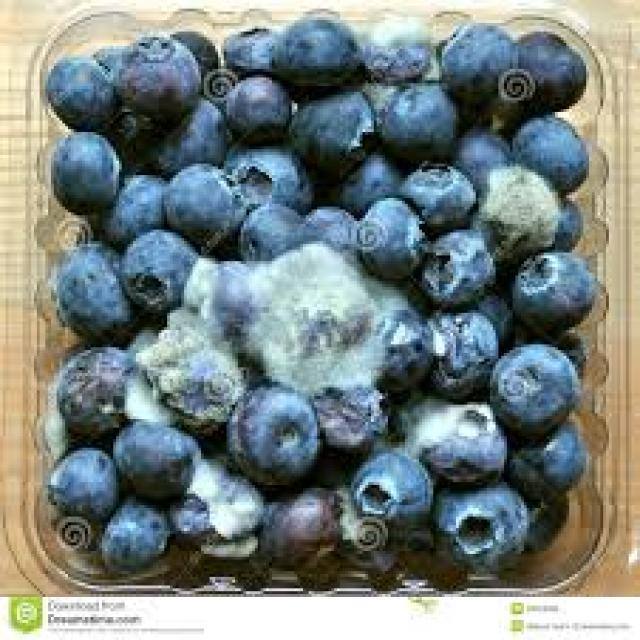organic waste: (246, 244, 380, 387), (136, 322, 246, 428), (224, 382, 320, 482), (167, 448, 255, 556), (51, 236, 136, 344), (391, 391, 498, 476), (51, 344, 147, 436), (430, 476, 524, 566), (484, 342, 578, 428), (158, 160, 246, 250), (351, 445, 439, 534), (110, 34, 196, 124), (108, 416, 198, 499), (434, 17, 516, 106), (289, 84, 371, 170), (178, 252, 255, 342), (374, 74, 456, 158), (255, 482, 337, 566), (272, 9, 360, 86), (507, 244, 589, 324), (507, 109, 583, 195), (221, 138, 309, 212), (332, 465, 399, 562), (479, 164, 552, 252), (42, 445, 124, 522), (425, 307, 498, 393), (303, 376, 385, 451), (411, 221, 487, 301), (504, 413, 581, 491), (121, 227, 192, 307), (88, 167, 164, 241), (510, 29, 580, 109), (42, 54, 122, 124), (48, 130, 116, 212), (96, 494, 167, 571), (150, 92, 227, 163), (212, 69, 289, 138), (354, 195, 422, 270), (396, 161, 473, 224), (373, 302, 428, 388), (323, 149, 399, 210), (360, 20, 433, 83), (99, 104, 167, 170), (507, 324, 586, 373), (235, 204, 303, 255), (450, 120, 504, 181), (289, 201, 351, 252), (359, 267, 414, 313), (218, 23, 275, 66), (524, 491, 566, 548), (538, 192, 581, 247), (173, 23, 218, 72), (473, 292, 512, 338), (464, 212, 504, 247), (88, 46, 124, 75)
